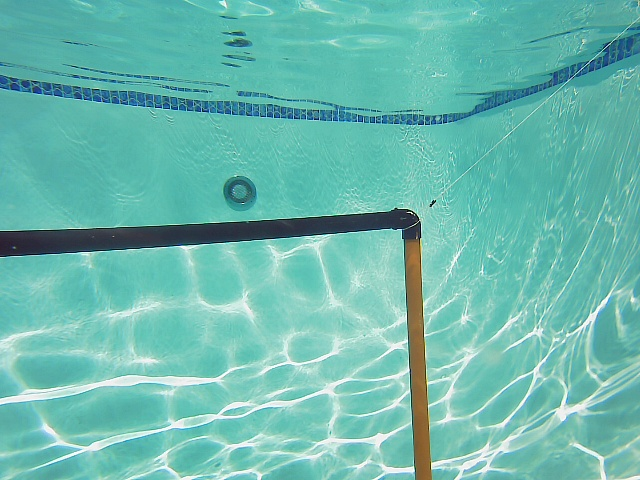Gate: (2, 205, 444, 480)
